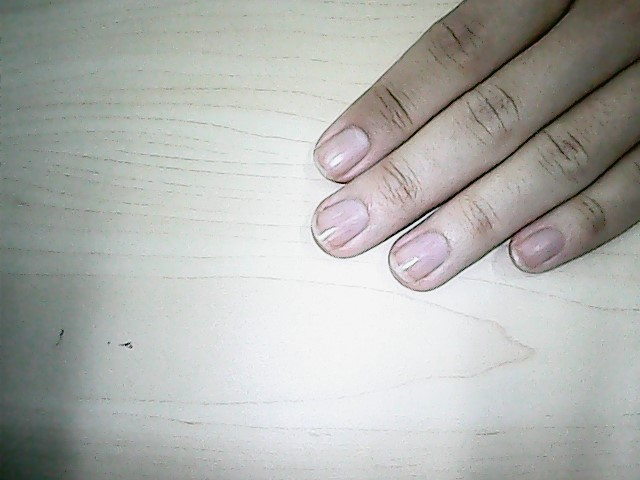nail: (312, 207, 365, 247), (310, 139, 364, 178), (393, 238, 441, 278), (520, 239, 559, 262)
